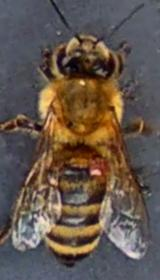varroa_mite: (84, 149, 114, 188)
